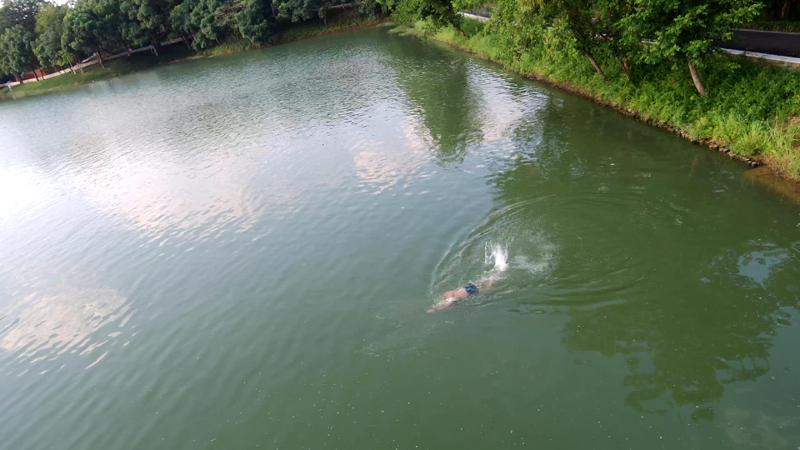swimmers: (426, 272, 499, 314)
